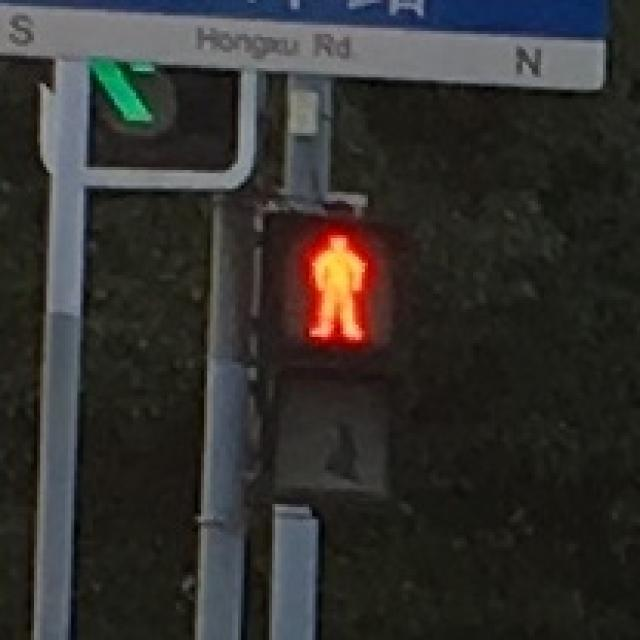red-crossing: (278, 216, 386, 350)
